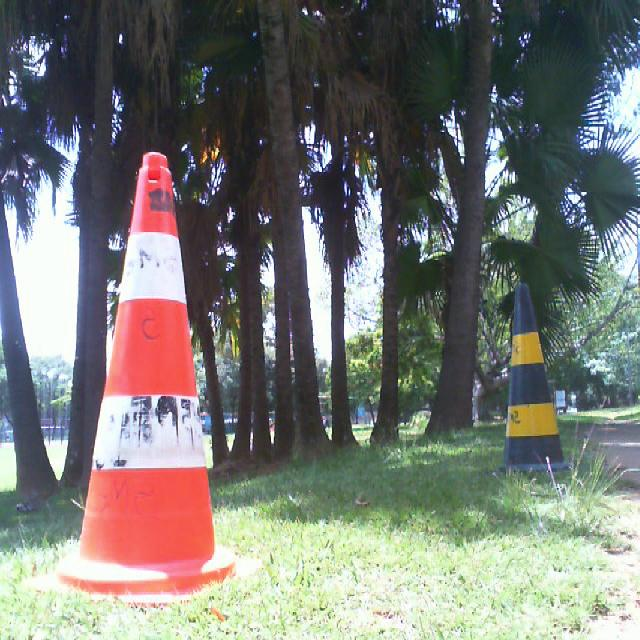cone: (24, 154, 262, 606), (490, 281, 576, 476)
